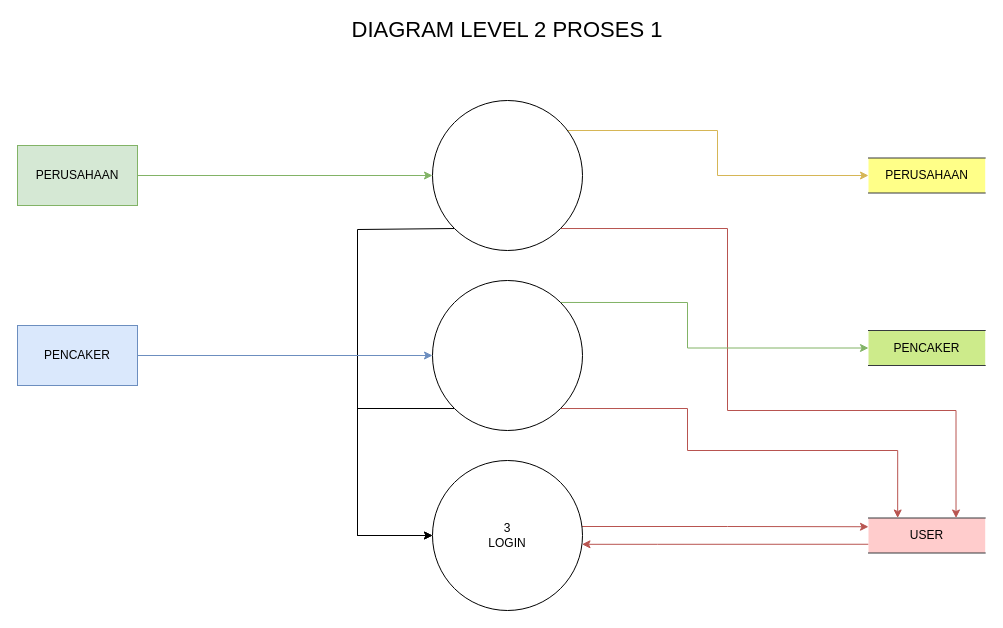
This 1003x628 diagram has some shape labels left out. Each missing label, with the centre of its shape:
2.1 REGISTRASI PERUSAHAAN: the point at 507,175
2.2 REGISTRASI PENCAKER: the point at 507,355
